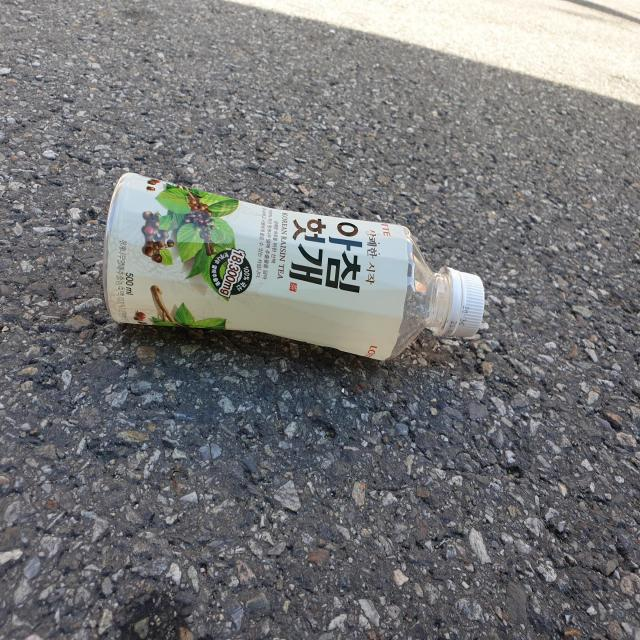plastic: (102, 172, 485, 360)
